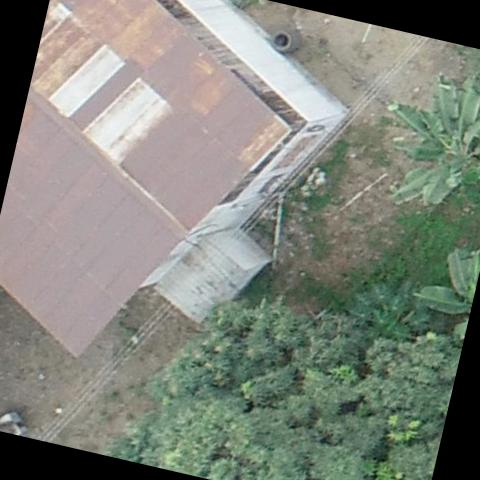Banana-plant: (365, 54, 480, 225)
